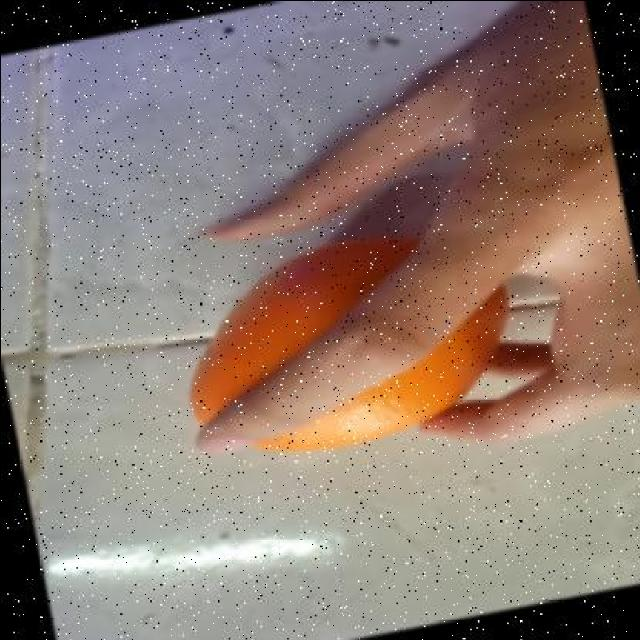Orange: (188, 228, 512, 457)
